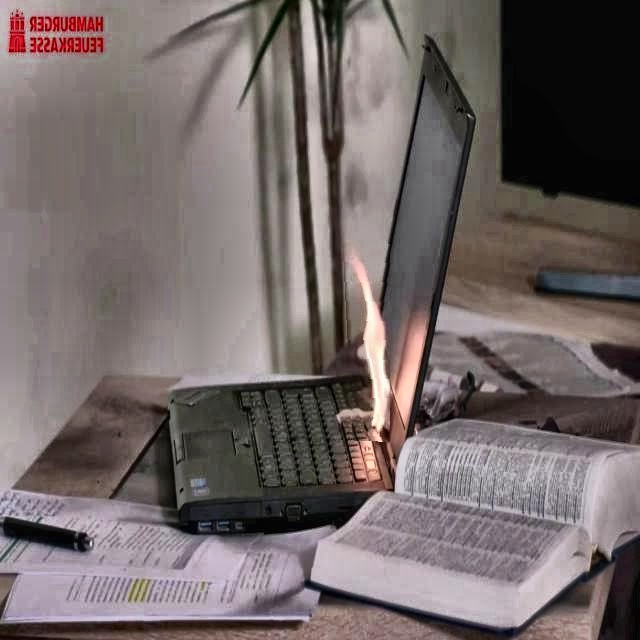fire: (336, 254, 400, 443)
